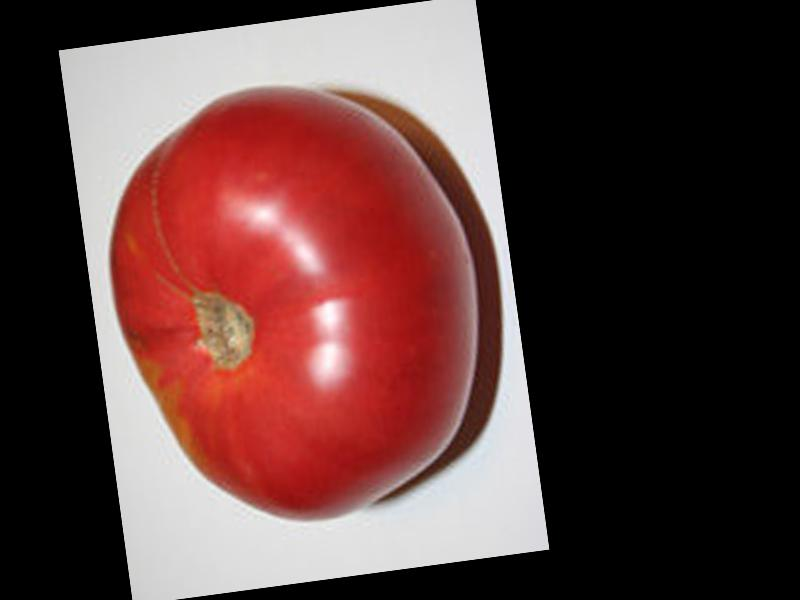Tomato: (83, 62, 494, 546)
